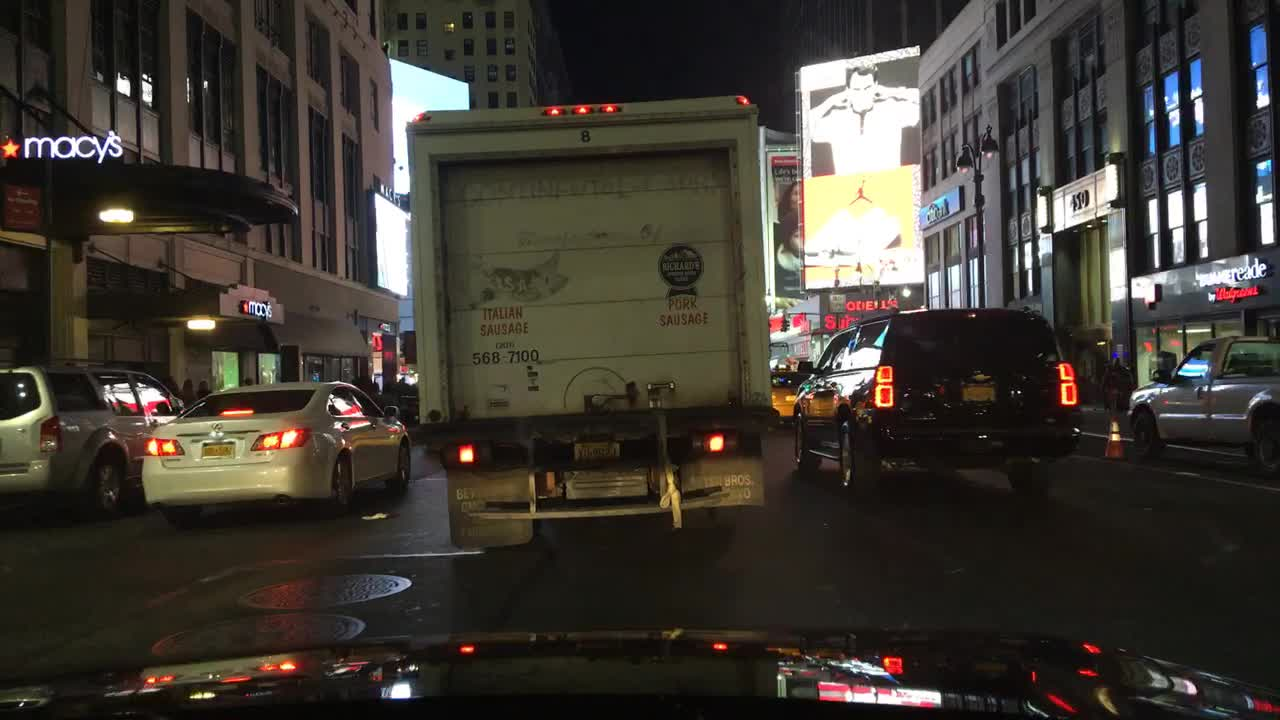car: (791, 306, 1083, 496), (139, 380, 412, 531), (0, 361, 187, 524), (1126, 333, 1279, 481), (767, 371, 810, 431)
traffic light: (779, 317, 789, 333)
traffic sign: (788, 355, 799, 372)
truck: (405, 93, 783, 553)
